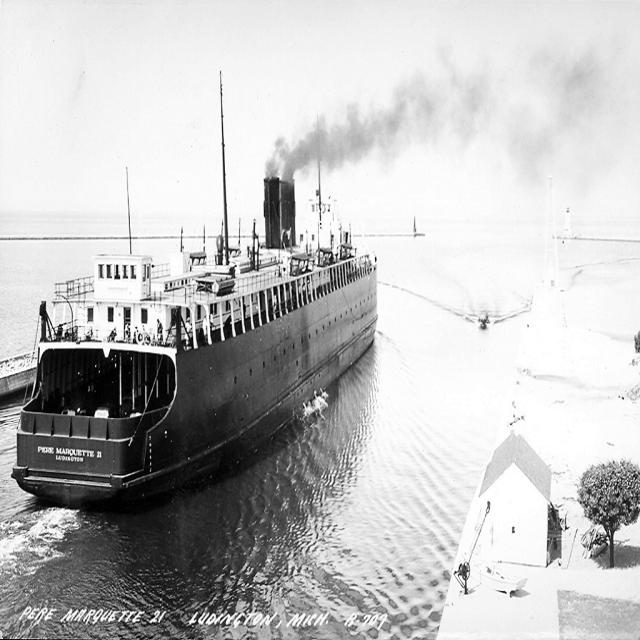Boat: (21, 98, 380, 504)
